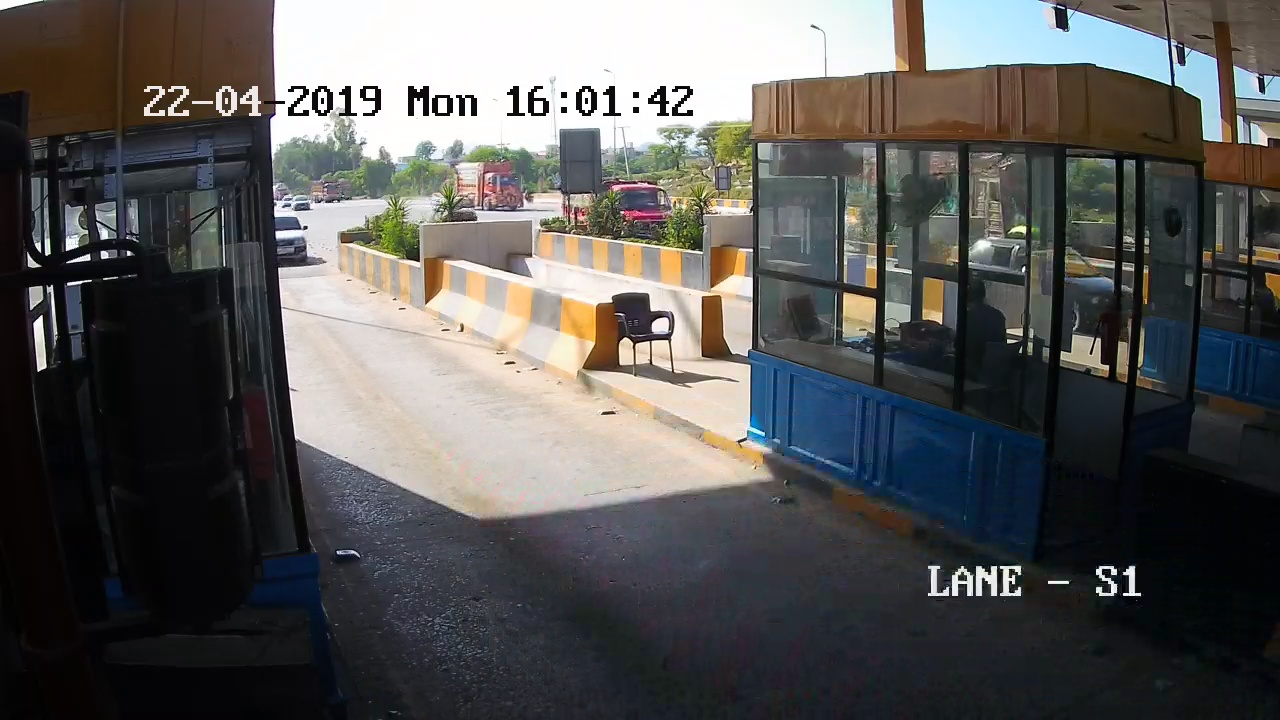car: (271, 215, 314, 276)
